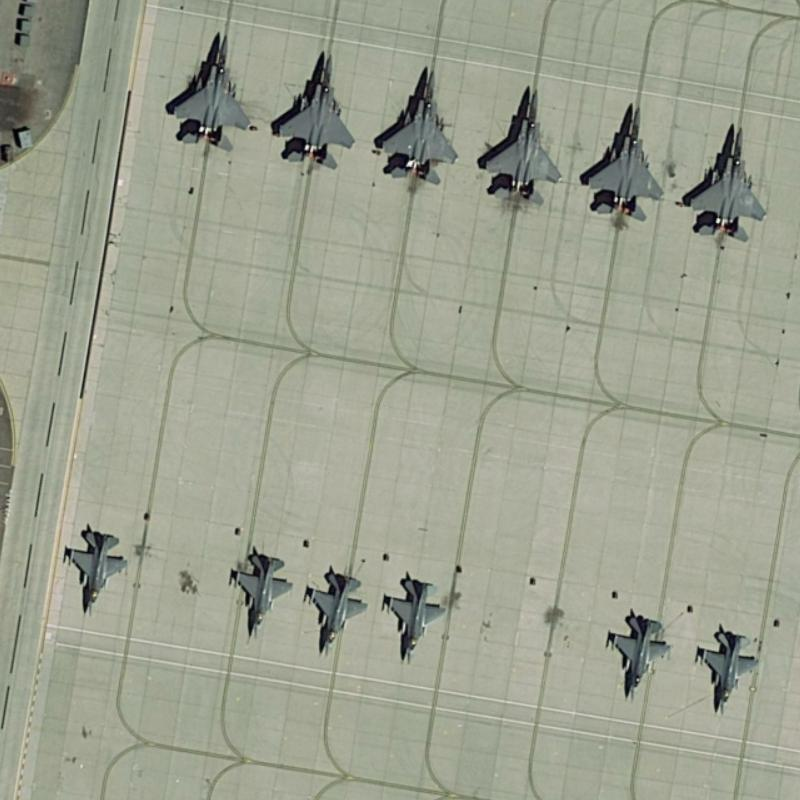A13: (472, 75, 568, 214), (572, 93, 671, 227), (367, 61, 463, 194), (675, 114, 770, 246), (162, 22, 253, 155), (268, 43, 357, 171)
A5: (60, 519, 136, 622), (599, 604, 673, 704), (692, 619, 764, 720), (224, 543, 295, 644), (302, 564, 372, 663), (379, 570, 443, 668)
